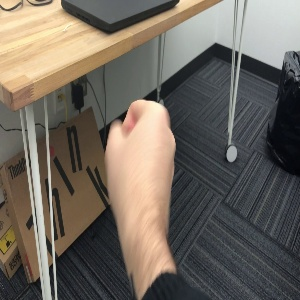hand: (105, 99, 176, 232)
